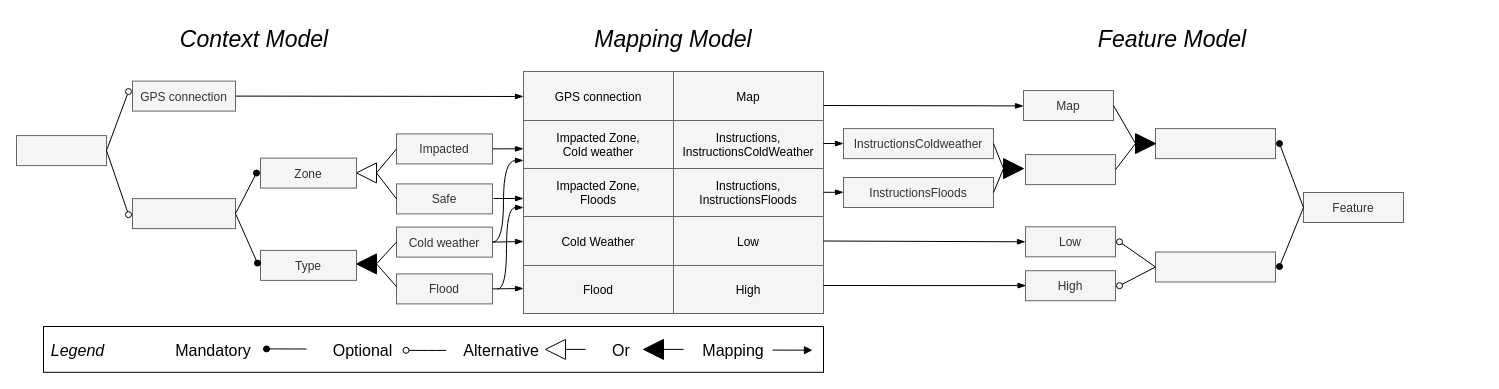
Some shapes in this 1499 by 389 pixel diagram are drawn without their labels. Each missing label, with the box of its shape:
Context: (16, 135, 106, 166)
EmergencyLevel: (1154, 251, 1276, 282)
Hazard: (132, 198, 236, 229)
Instructions: (1024, 154, 1116, 185)
Widget: (1154, 128, 1276, 159)
